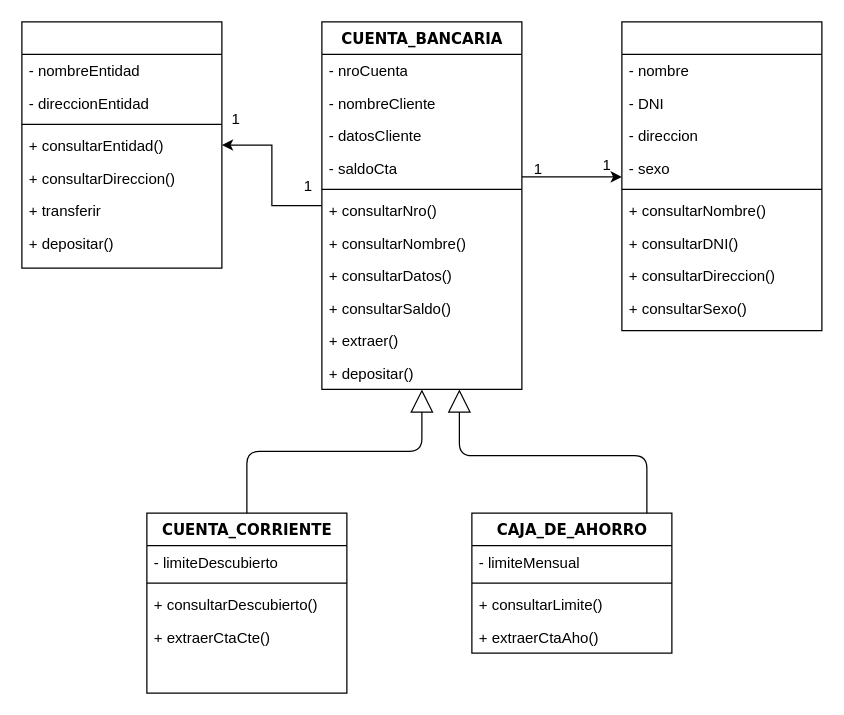
Image size: 844x715. Some labels were removed from this diagram. The box of each missing label's shape, as (x1, y1, x2, y2) in pixels:
BANCO: (21, 21, 222, 268)
CLIENTE: (621, 21, 822, 331)
